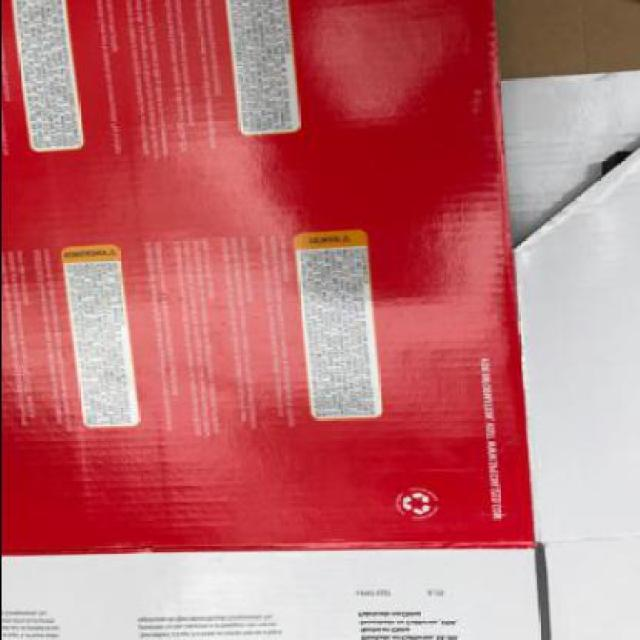CARDBOARD: (0, 1, 638, 640), (1, 1, 552, 638), (494, 72, 638, 640), (497, 2, 638, 83)
